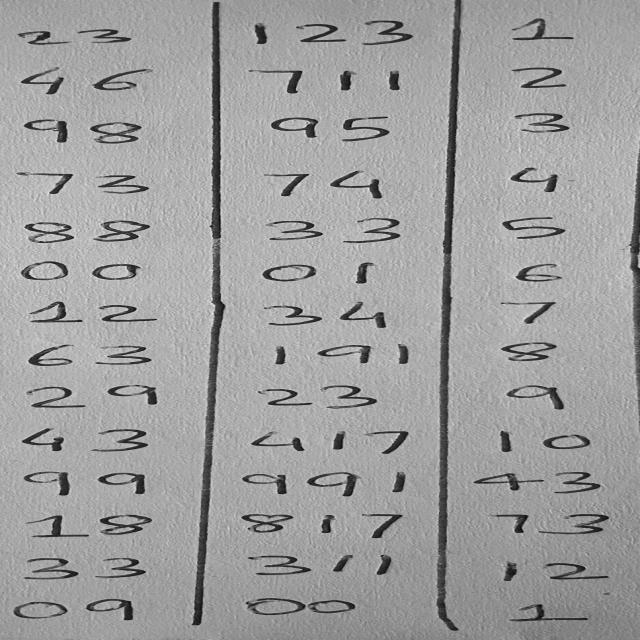Number: (240, 16, 423, 50), (229, 470, 428, 500), (245, 340, 418, 372), (242, 67, 423, 97), (245, 428, 424, 458), (257, 114, 409, 149), (237, 511, 413, 541), (232, 551, 406, 581), (246, 299, 420, 328), (10, 167, 176, 197), (258, 215, 418, 246), (13, 65, 167, 97), (261, 170, 411, 200), (18, 116, 156, 148), (468, 469, 619, 498), (13, 426, 168, 454), (17, 217, 166, 246), (21, 383, 171, 411), (245, 383, 388, 412), (18, 470, 166, 498), (29, 300, 178, 327), (15, 513, 168, 539), (485, 15, 606, 47), (256, 260, 398, 287), (484, 510, 620, 538), (17, 258, 162, 284), (17, 556, 162, 582), (20, 341, 158, 368), (479, 559, 621, 584), (10, 598, 153, 622), (236, 596, 385, 619), (482, 214, 596, 244), (487, 382, 589, 414), (11, 26, 158, 48), (484, 430, 608, 456), (488, 162, 580, 196), (488, 602, 619, 624), (495, 63, 591, 92), (490, 110, 578, 138), (489, 336, 561, 366), (494, 300, 573, 325), (497, 262, 579, 286)
